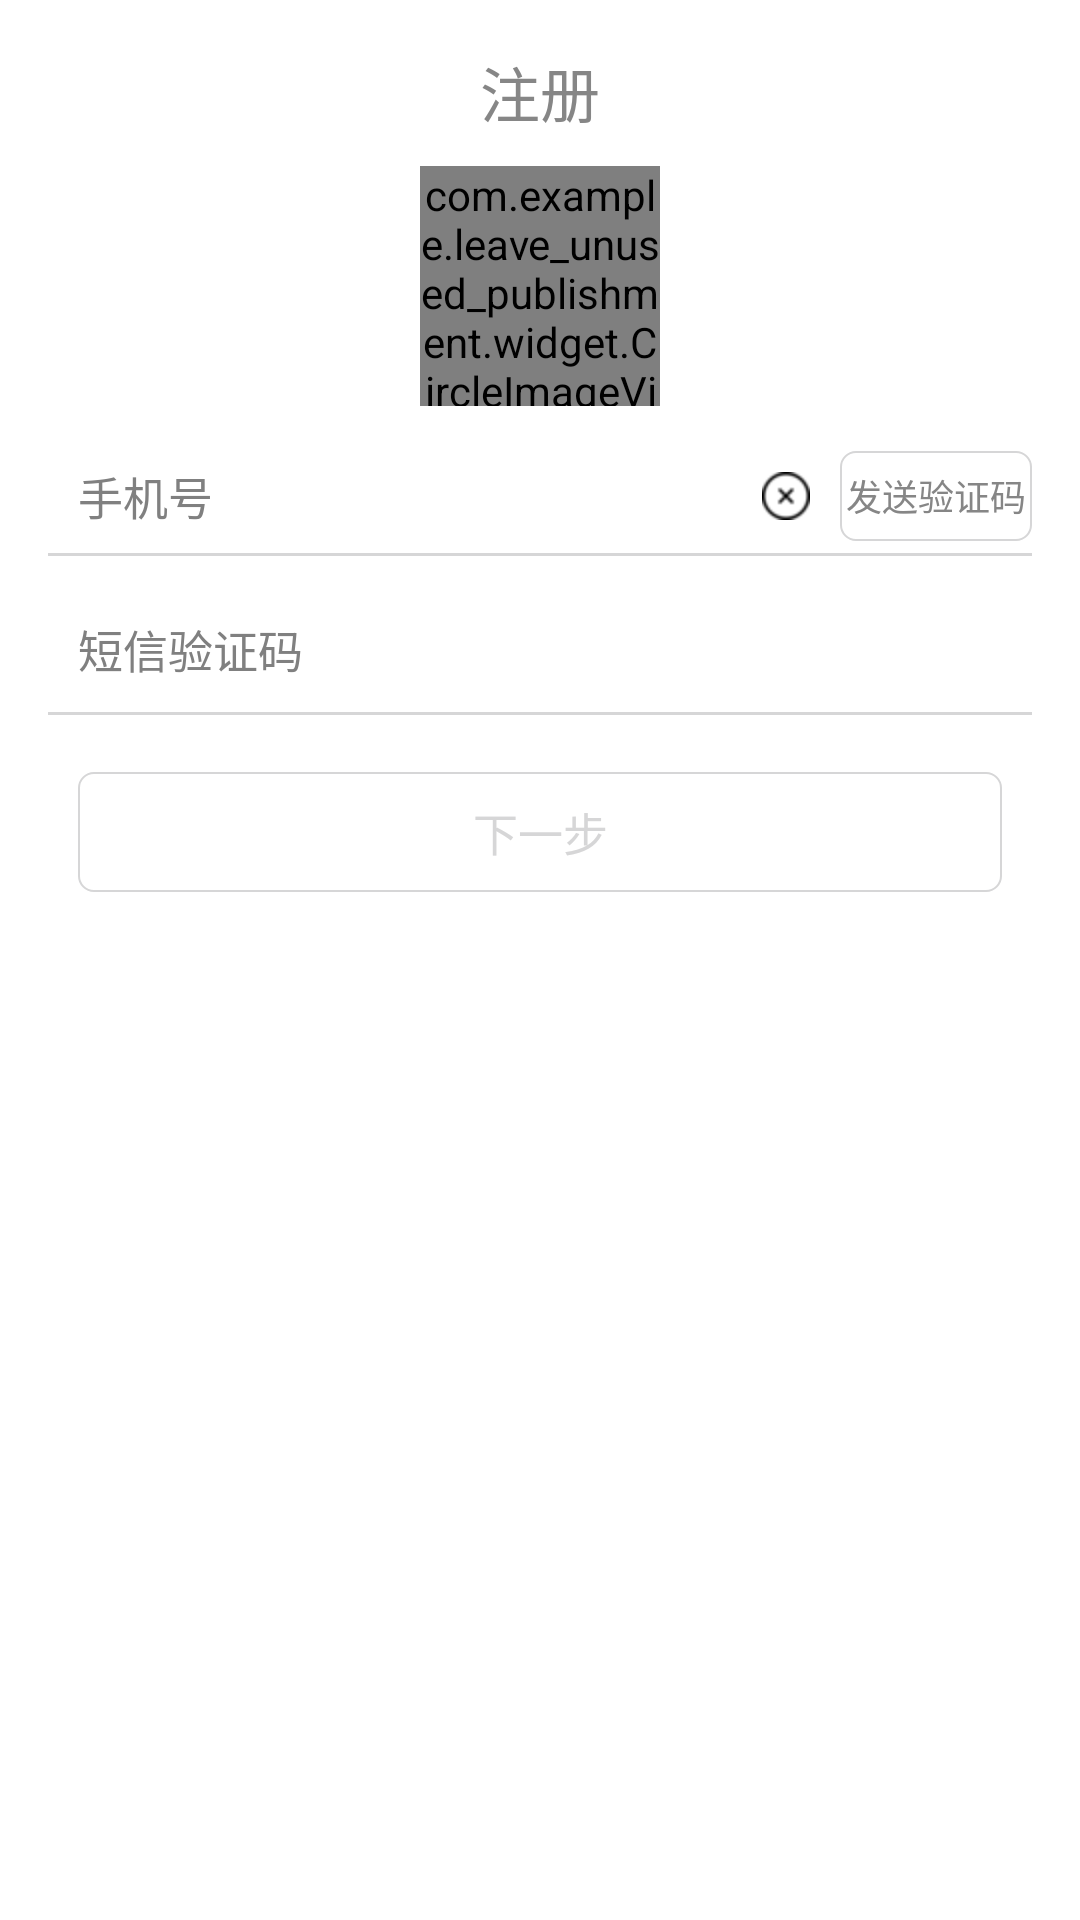

Where icons sit on this 1080×1920 app screen, as (x1, y1, x2, y2):
close: (762, 472, 810, 520)
